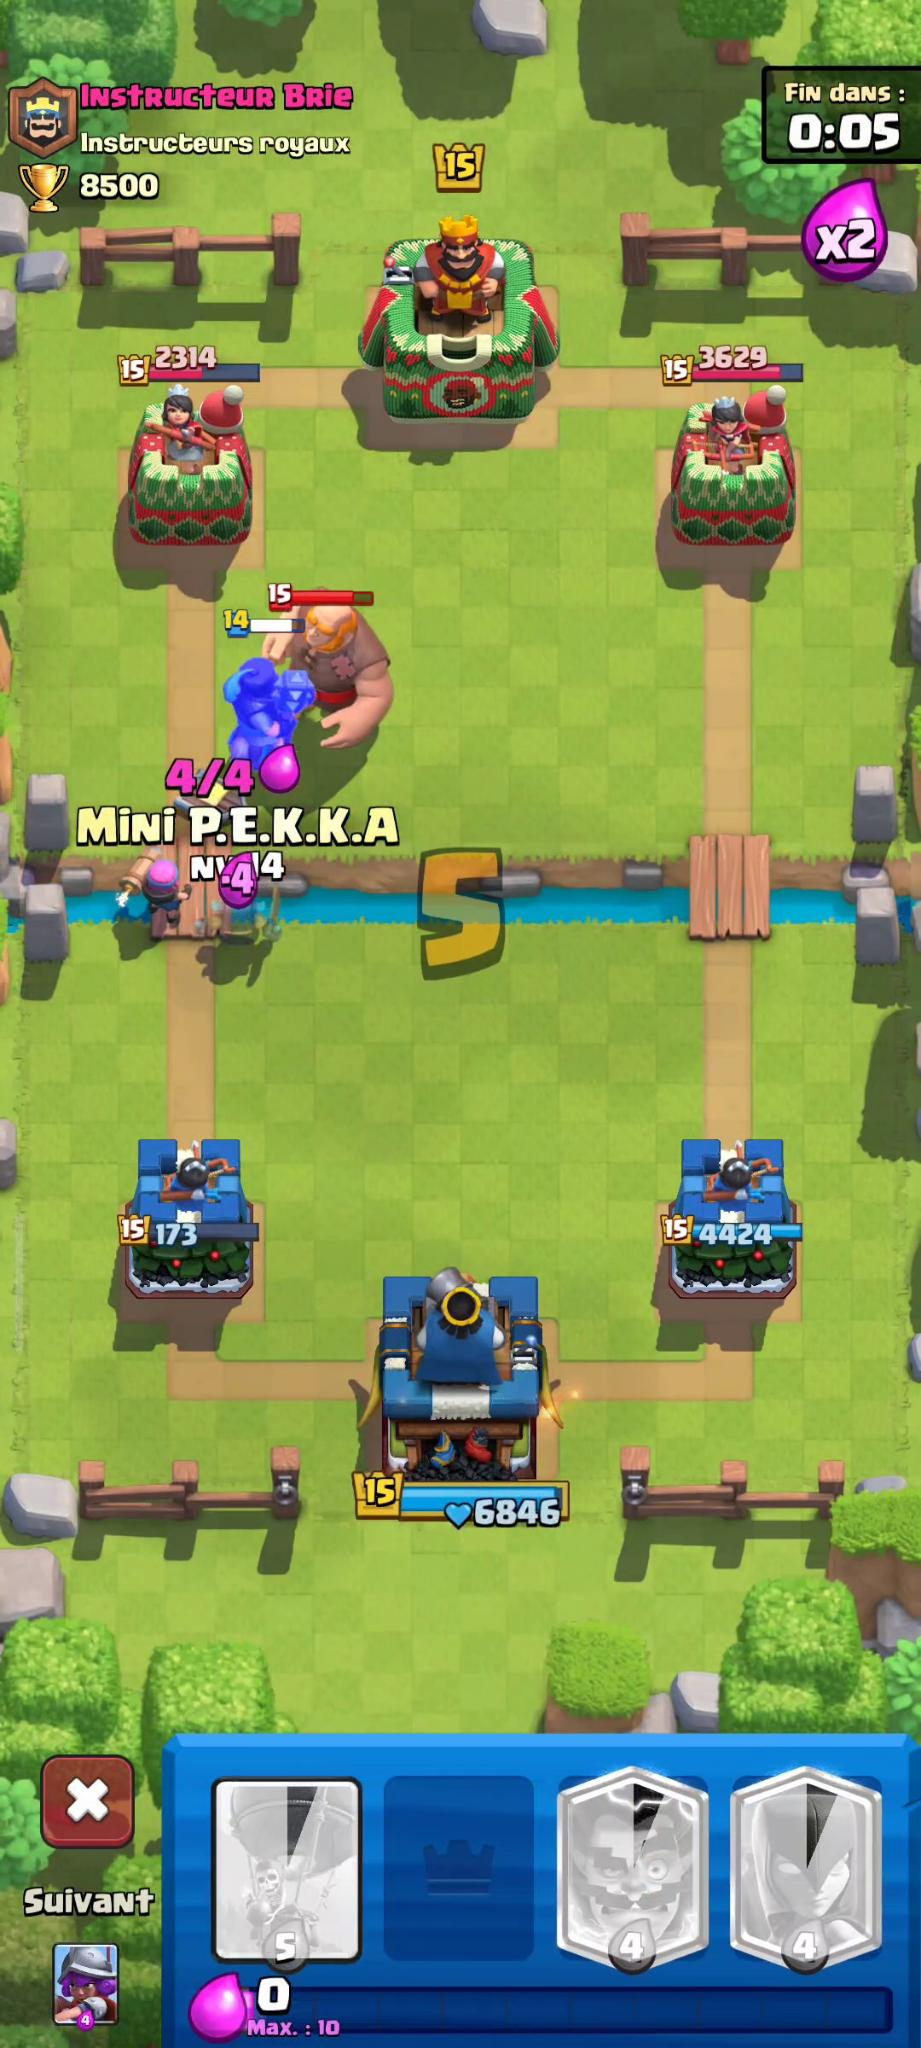geant: (255, 585, 395, 752)
mini_PEKKA: (189, 887, 287, 955)
